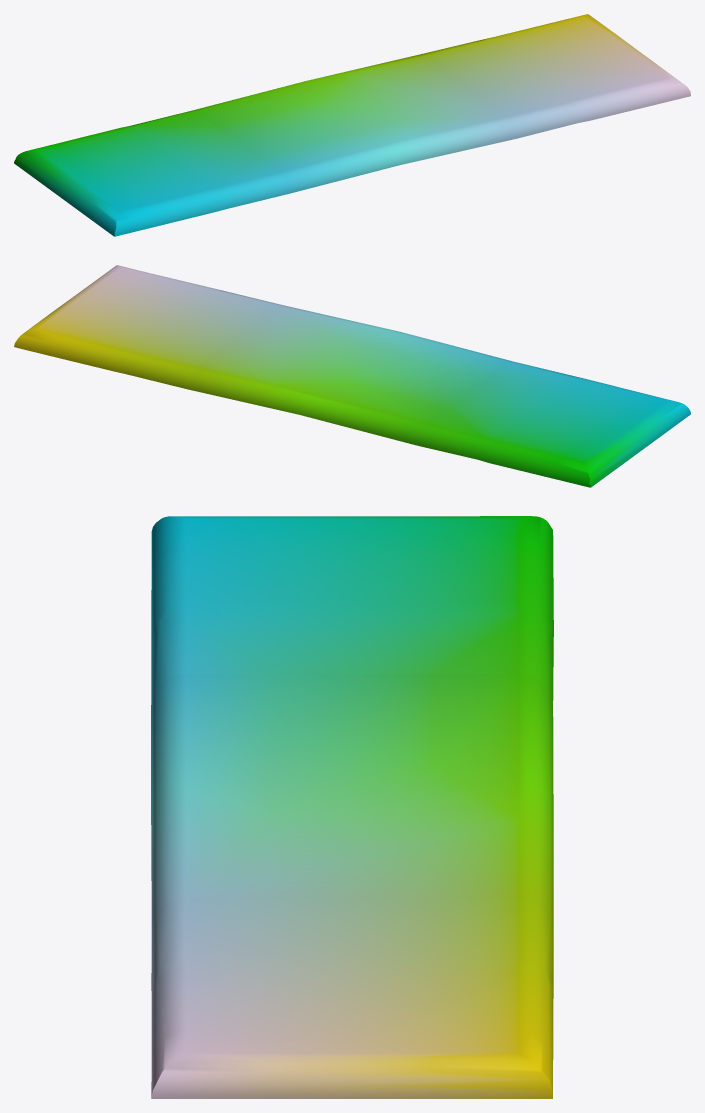
File: SM_ROAD_19_5_0_19_buffer.FBX
The picture shows the model from 3 angles, top to bottom: view 1: azimuth 30°, elevation 25°; view 2: azimuth 150°, elevation 25°; view 3: azimuth 270°, elevation 25°; orthographic projection. The views are drawn at different scales.
Visible parts, largest first — view 1: SM_ROAD_19_5_0_19_buffer; view 2: SM_ROAD_19_5_0_19_buffer; view 3: SM_ROAD_19_5_0_19_buffer.
Part boxes in pixels (<box>): SM_ROAD_19_5_0_19_buffer: <box>14,14,690,236</box>; SM_ROAD_19_5_0_19_buffer: <box>14,265,690,487</box>; SM_ROAD_19_5_0_19_buffer: <box>151,516,553,1098</box>.
Bounding box in the file's own units: 2004 × 606 × 58.77.
